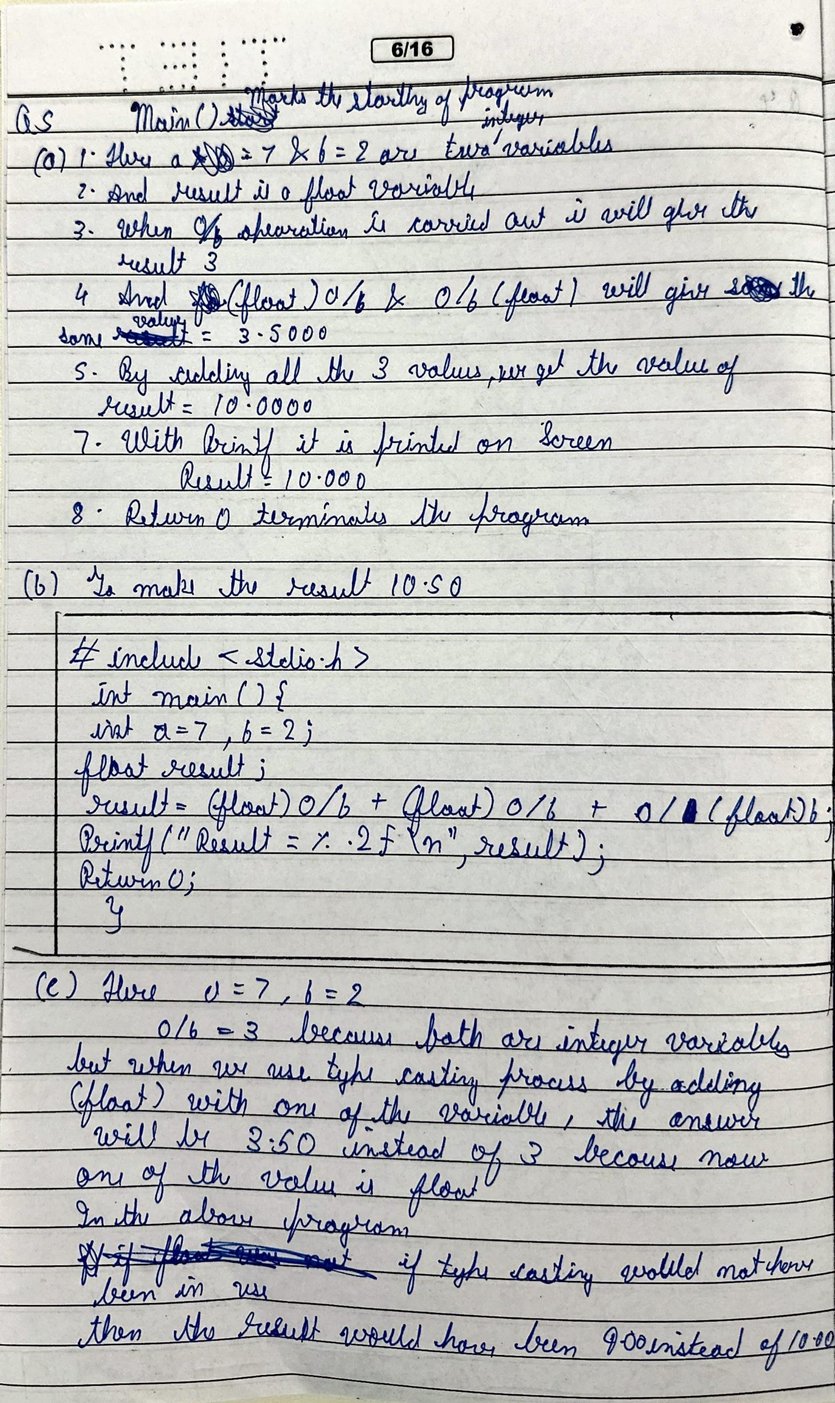cuttings: (70, 1231, 381, 1289), (186, 278, 229, 329), (188, 137, 237, 180), (723, 274, 785, 307), (110, 325, 194, 349), (217, 102, 278, 134), (677, 796, 703, 827)
